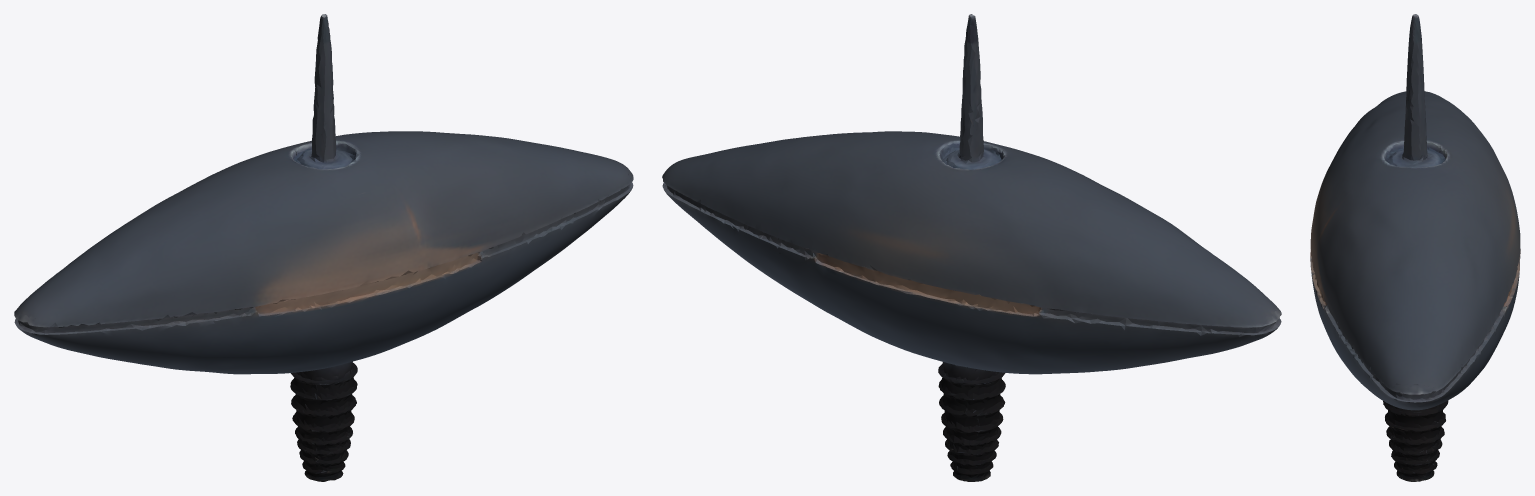
The model's file is architect_drone_hifi.glb.
3 views of the same model, side by side, from view 1: azimuth 30°, elevation 25°; view 2: azimuth 150°, elevation 25°; view 3: azimuth 270°, elevation 25° (orthographic).
Visible parts, largest first — view 1: architect_drone_hifi; view 2: architect_drone_hifi; view 3: architect_drone_hifi.
Part boxes in pixels (x1,y1,x2,y2): architect_drone_hifi: (14,14,633,481); architect_drone_hifi: (662,14,1281,481); architect_drone_hifi: (1310,14,1520,481).
Size of the model in its own units: 1.89 by 1.36 by 0.5639.
1 material, 1 textured.
